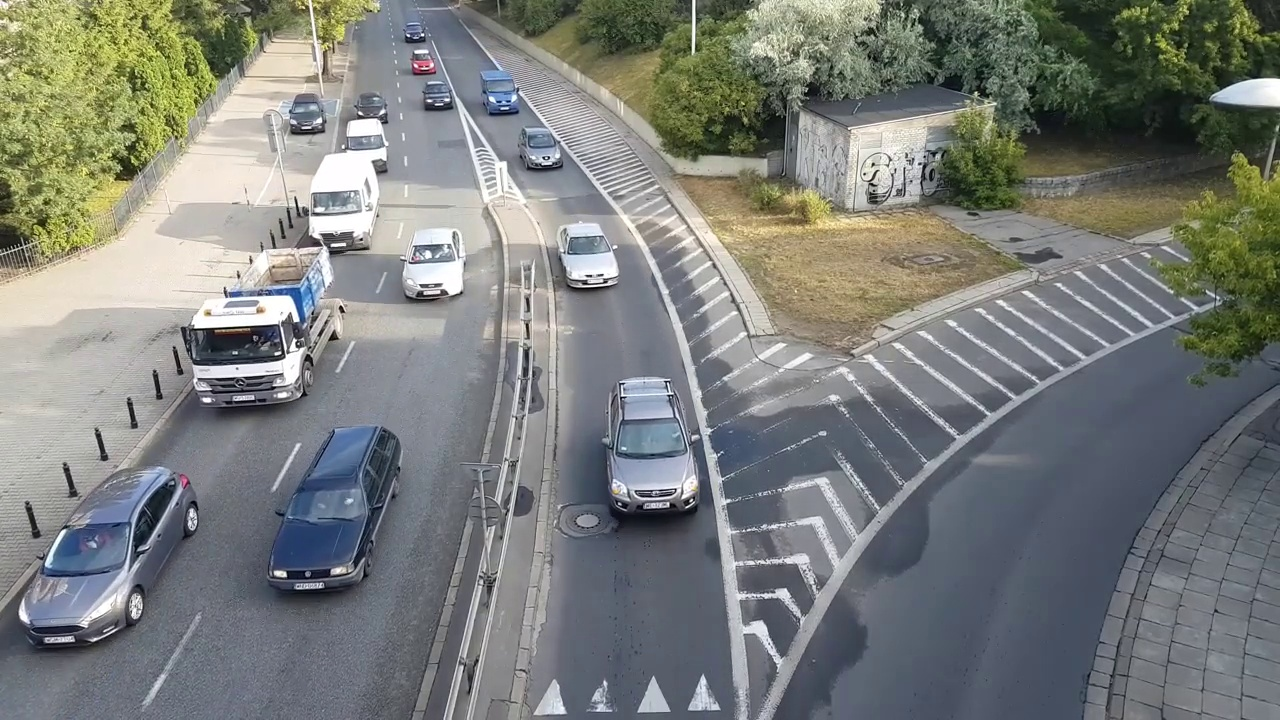car: (16, 460, 190, 647), (189, 246, 342, 403), (267, 423, 397, 599), (608, 380, 700, 515), (305, 156, 375, 255), (404, 227, 468, 301), (556, 220, 615, 290), (345, 120, 388, 174), (517, 127, 563, 174), (480, 69, 522, 117), (289, 94, 325, 136), (356, 91, 387, 125), (422, 80, 452, 111), (410, 48, 437, 75), (403, 21, 426, 45)
